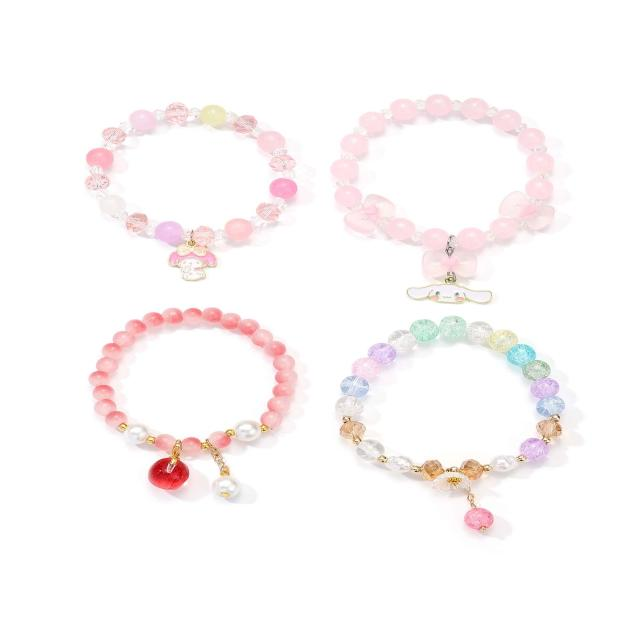bracelet: (315, 30, 640, 306), (323, 304, 640, 570), (67, 287, 312, 541), (74, 44, 321, 292)
